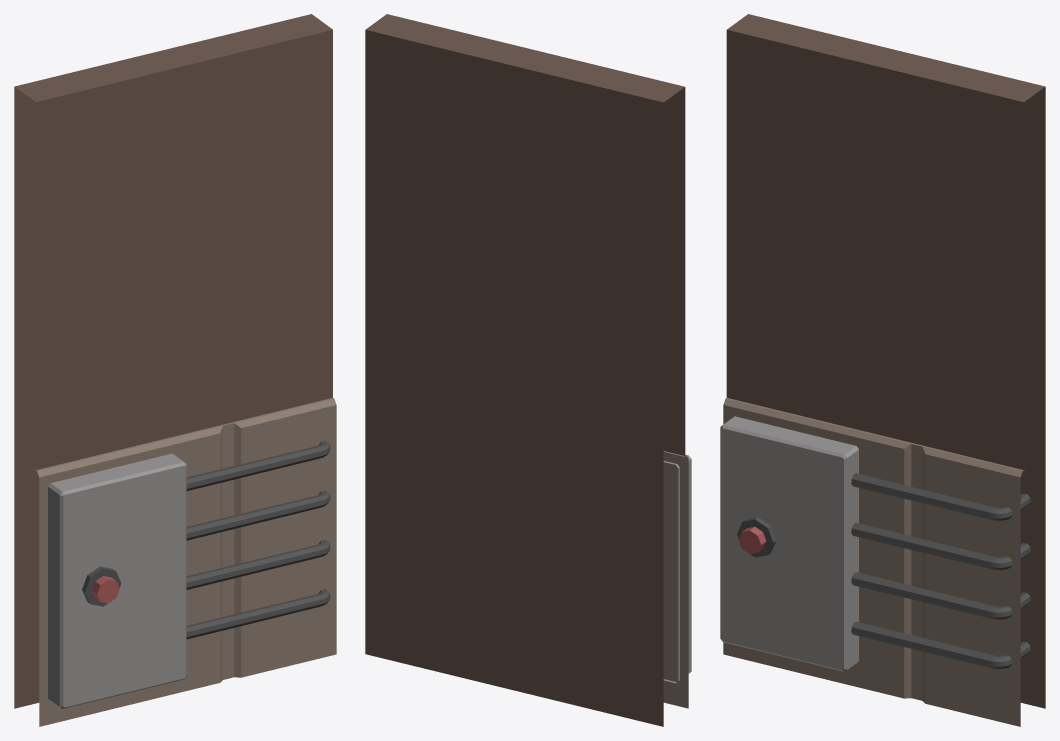
The model's file is pared_4.fbx.
The picture shows the model from 3 angles, left to right: view 1: azimuth 30°, elevation 25°; view 2: azimuth 150°, elevation 25°; view 3: azimuth 330°, elevation 25°; orthographic projection.
Parts seen in each view (by area): view 1: base, zocalo, metal_box, conection_2, conection_1, conection_3, conection_4, base_bulb, bulb; view 2: base, zocalo, metal_box; view 3: base, zocalo, metal_box, conection_3, conection_1, conection_2, conection_4, base_bulb, bulb.
Part boxes in pixels (x1,y1,x2,y2): base: (14, 14, 332, 708); zocalo: (35, 398, 336, 726); metal_box: (48, 453, 186, 708); conection_2: (186, 490, 330, 540); conection_1: (186, 440, 330, 490); conection_3: (186, 539, 330, 589); conection_4: (186, 589, 330, 639); base_bulb: (82, 566, 121, 606); bulb: (92, 576, 119, 603); base: (365, 14, 685, 726); zocalo: (663, 451, 688, 708); metal_box: (663, 454, 691, 683); base: (726, 14, 1045, 708); zocalo: (723, 398, 1024, 726); metal_box: (720, 416, 858, 671); conection_3: (851, 572, 1030, 619); conection_1: (851, 473, 1030, 520); conection_2: (851, 522, 1030, 570); conection_4: (851, 621, 1030, 668); base_bulb: (737, 517, 776, 557); bulb: (738, 526, 766, 553).
Size of the model in its own units: 100 by 200 by 26.96.
